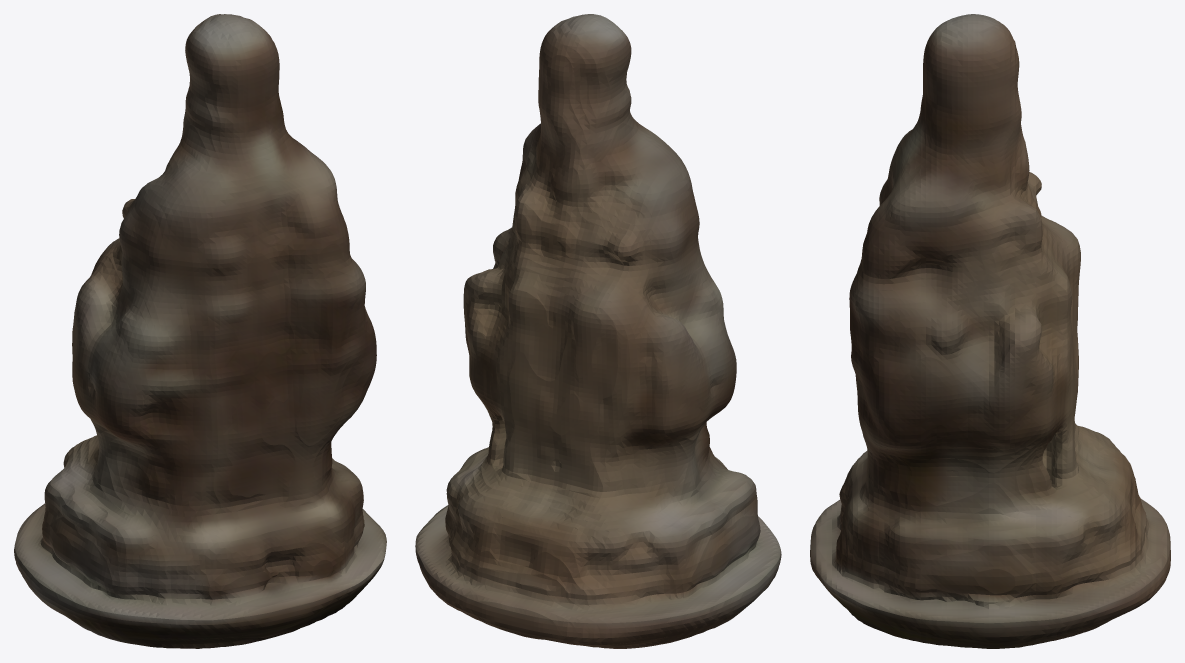
The model's file is asset.glb.
The picture shows the model from 3 angles, left to right: view 1: azimuth 30°, elevation 25°; view 2: azimuth 150°, elevation 25°; view 3: azimuth 270°, elevation 25°; orthographic projection. The views are drawn at different scales.
Parts seen in each view (by area): view 1: tmpabpamove.ply; view 2: tmpabpamove.ply; view 3: tmpabpamove.ply.
Part boxes in pixels (x1,y1,x2,y2): tmpabpamove.ply: [14, 14, 386, 648]; tmpabpamove.ply: [415, 14, 781, 648]; tmpabpamove.ply: [810, 14, 1170, 648].
Size of the model in its own units: 1.11 by 1.88 by 1.07.
